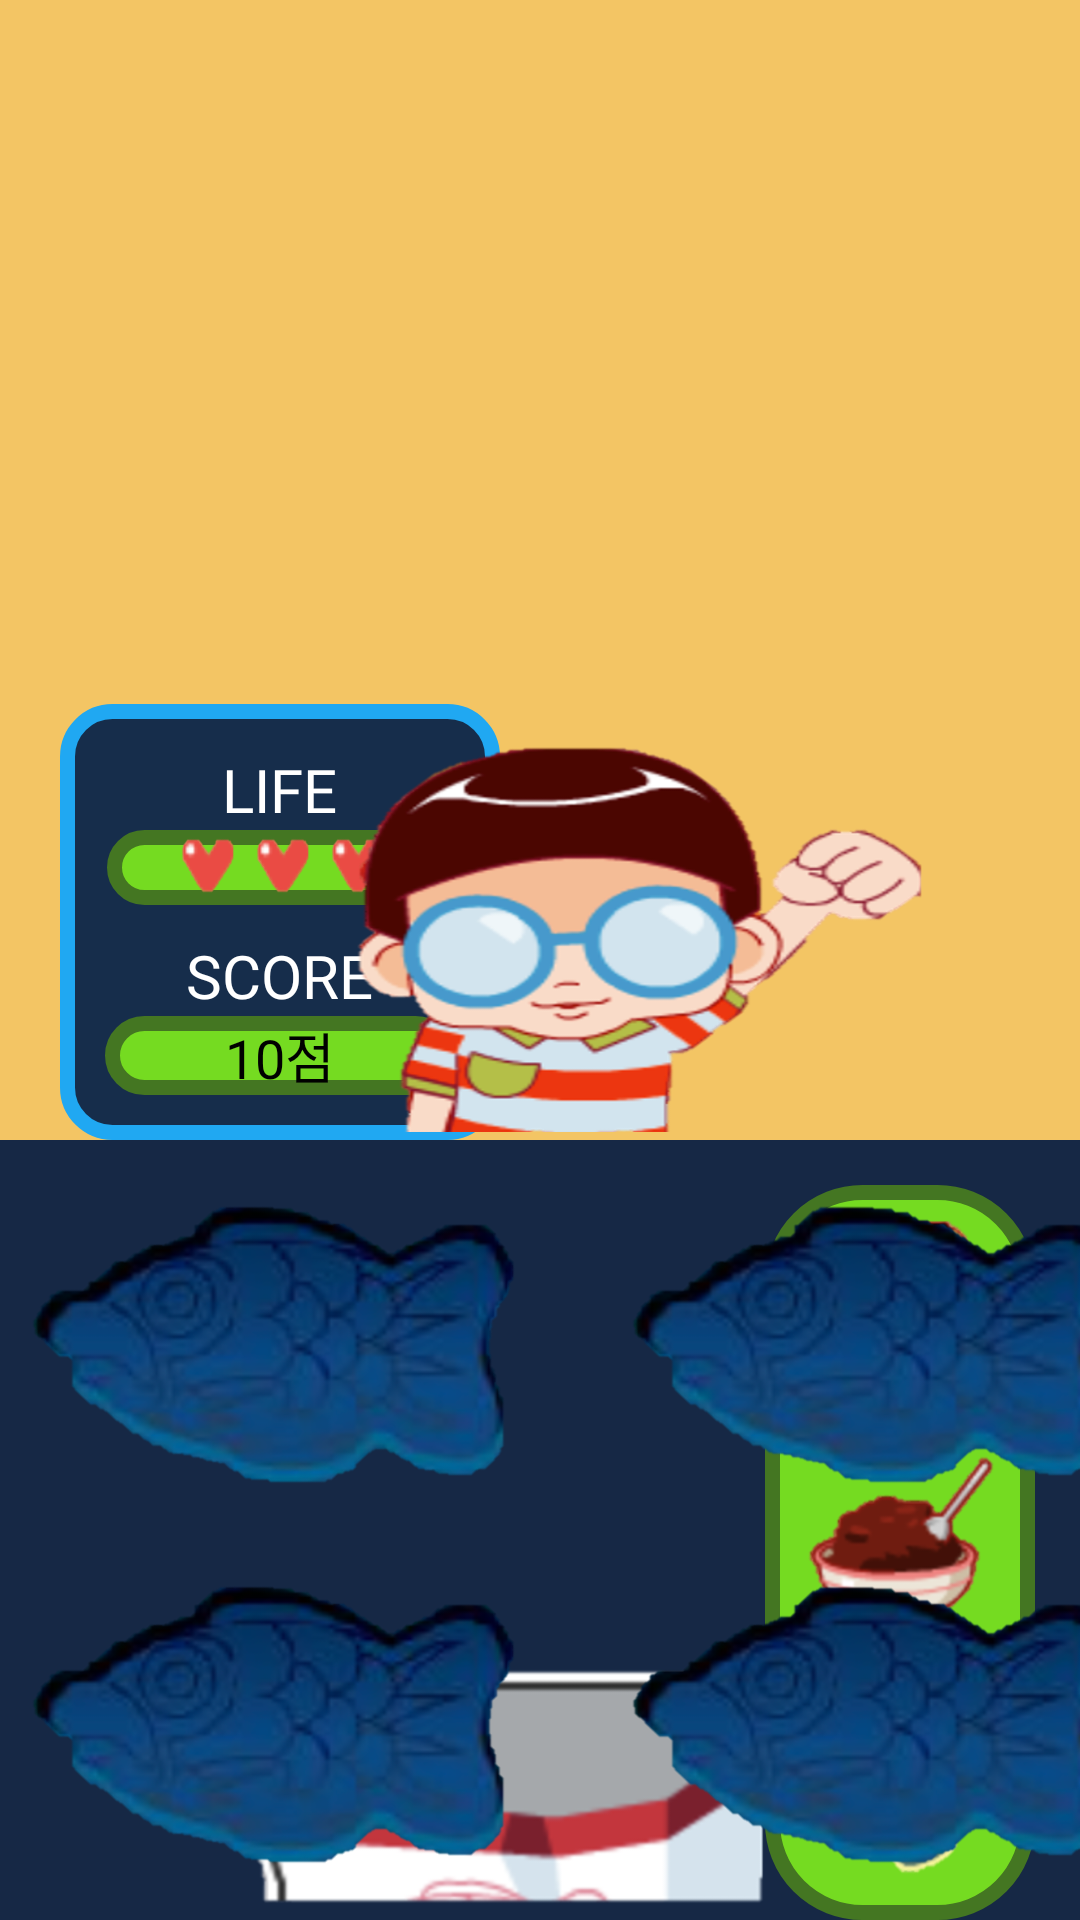

Icons on this 1080 x 1920 Android screen, each with the point to tap as (x,y):
rbean: (907,1545)
